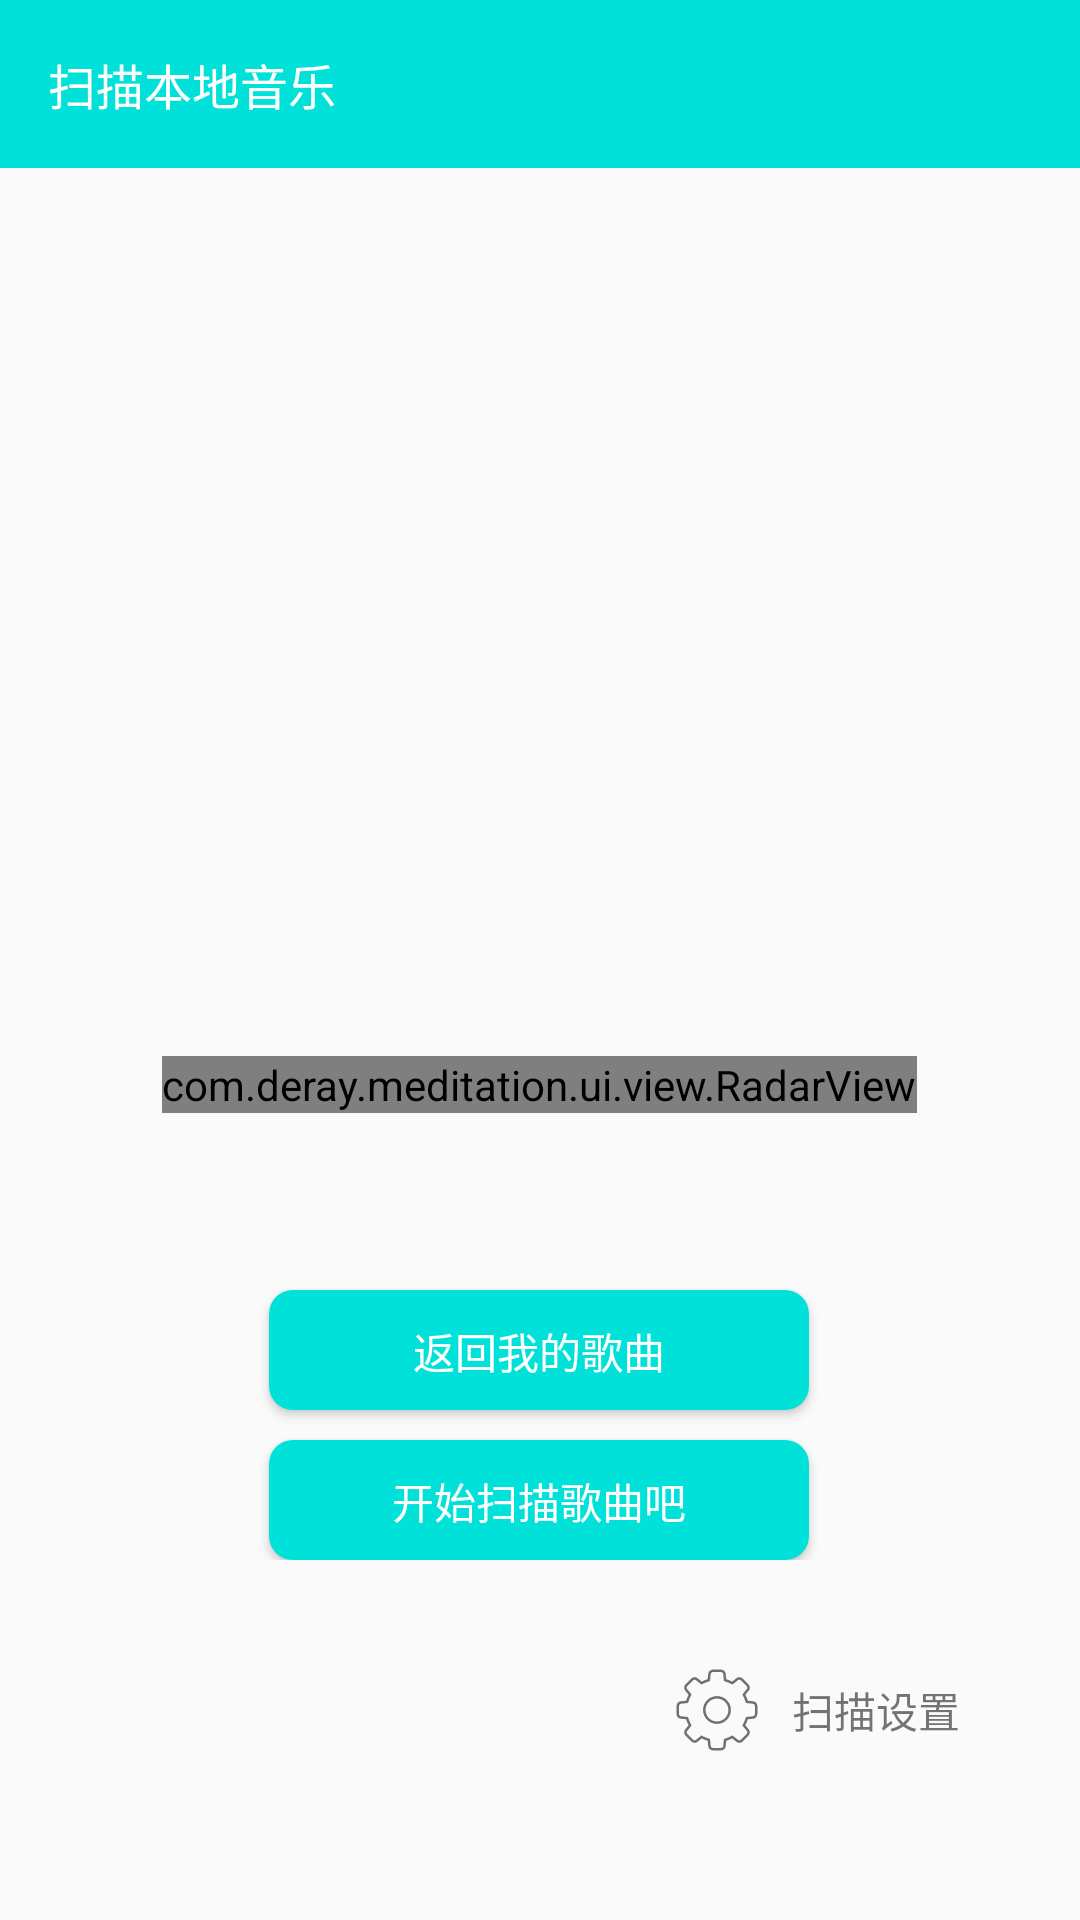

Where icons sit on this 1080x1920 app screen, as (x1, y1, x2, y2):
music me settings: (676, 1669, 758, 1751)
